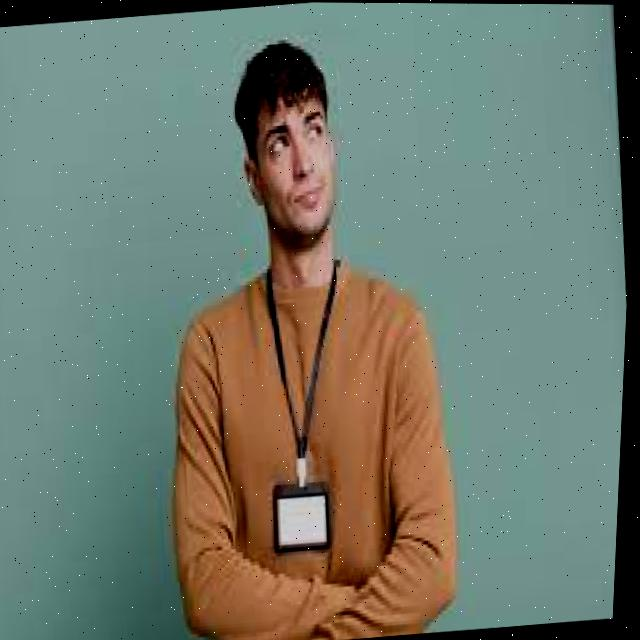id_card: (249, 266, 360, 567)
